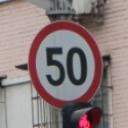speed_limit_50: (29, 22, 102, 108)
